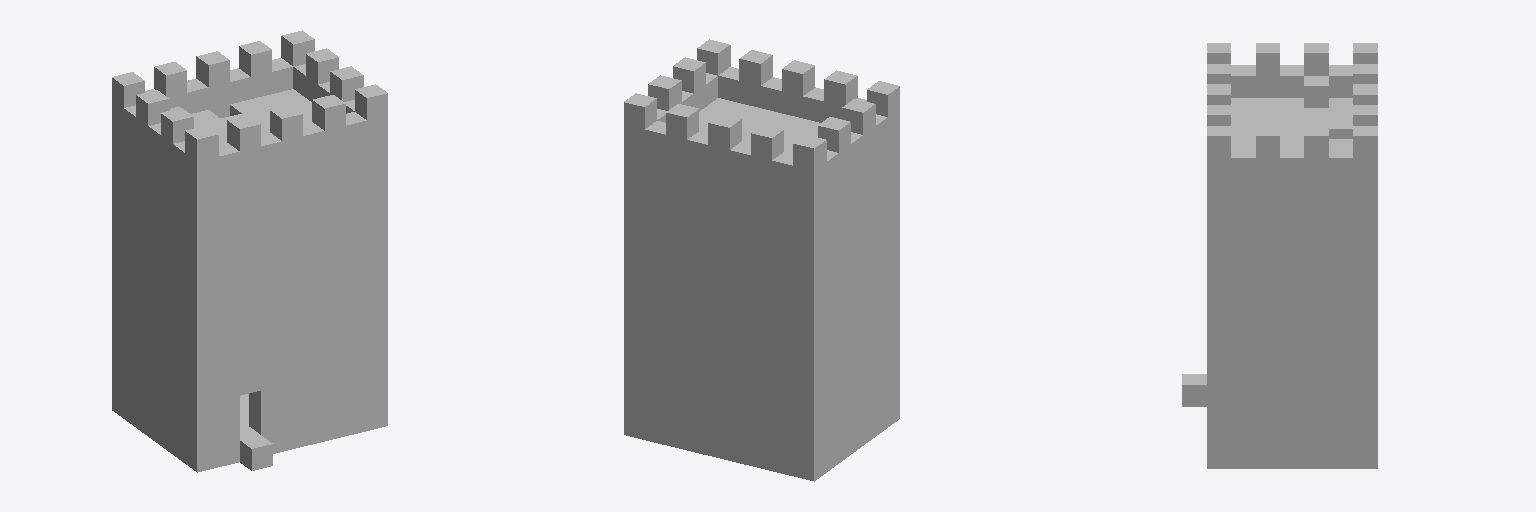
Rendered from mesh_wesh_tower_01.obj.
The picture shows the model from 3 angles: view 1: azimuth 30°, elevation 25°; view 2: azimuth 150°, elevation 25°; view 3: azimuth 270°, elevation 25°; orthographic projection.
Size of the model in its own units: 0.2812 by 0.4688 by 0.25.